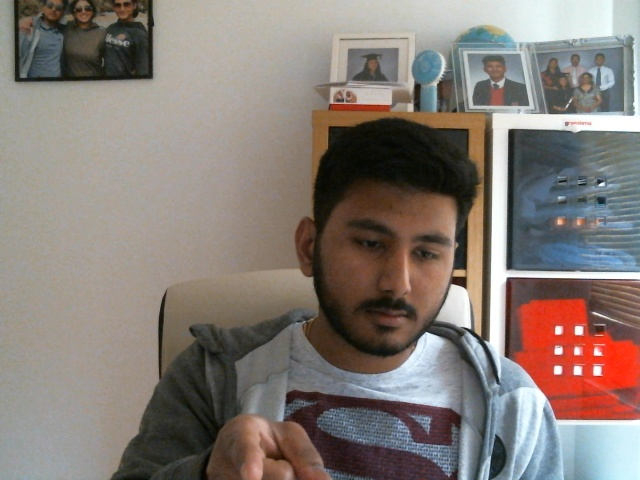you: (206, 415, 326, 480)
